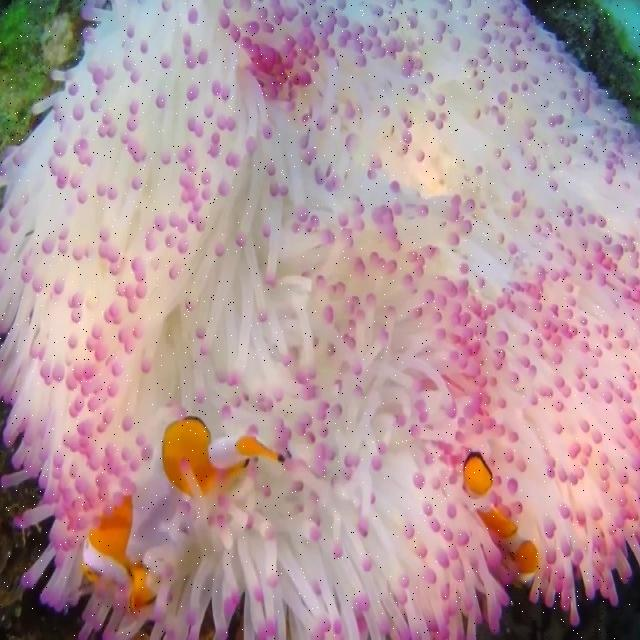fish: (81, 417, 288, 611), (463, 456, 538, 589)
reefs: (0, 1, 639, 638)
